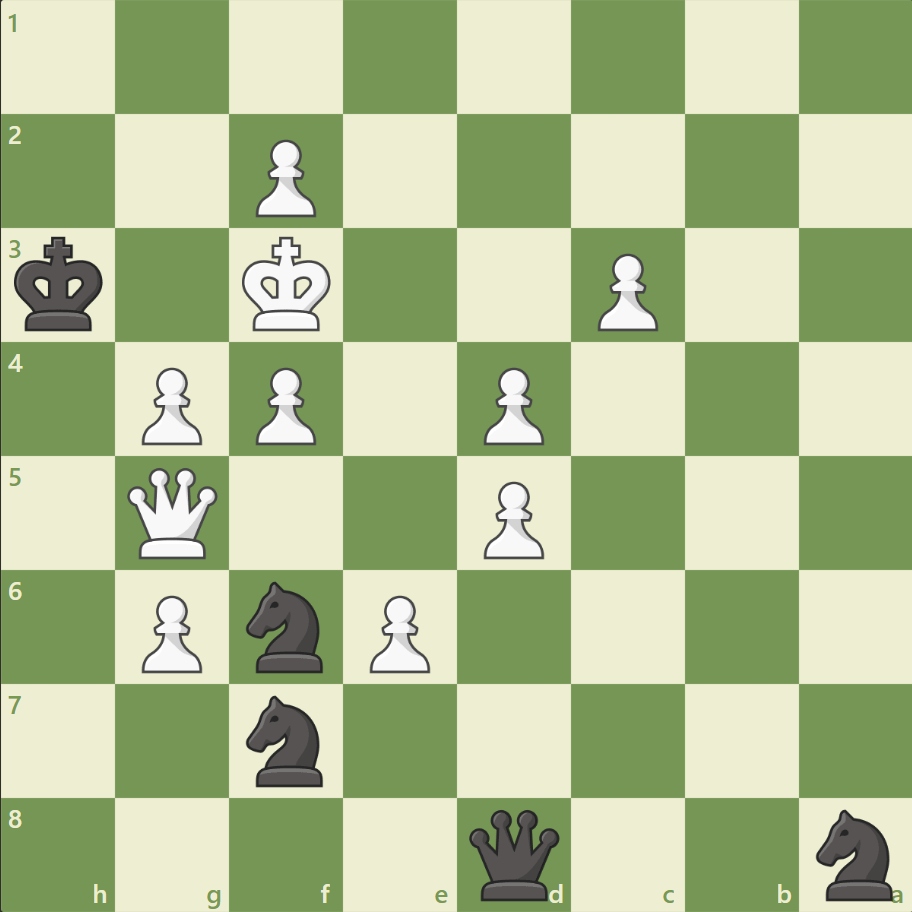K: (238, 231, 338, 339)
P: (133, 586, 208, 677), (474, 473, 549, 564), (474, 359, 549, 450), (247, 359, 322, 450), (133, 359, 208, 450), (247, 132, 322, 223), (361, 586, 435, 677), (588, 246, 662, 337)
Q: (124, 463, 223, 562)
k: (11, 231, 111, 339)
n: (238, 688, 335, 791), (806, 802, 903, 904), (238, 575, 335, 677)
q: (464, 804, 563, 903)
